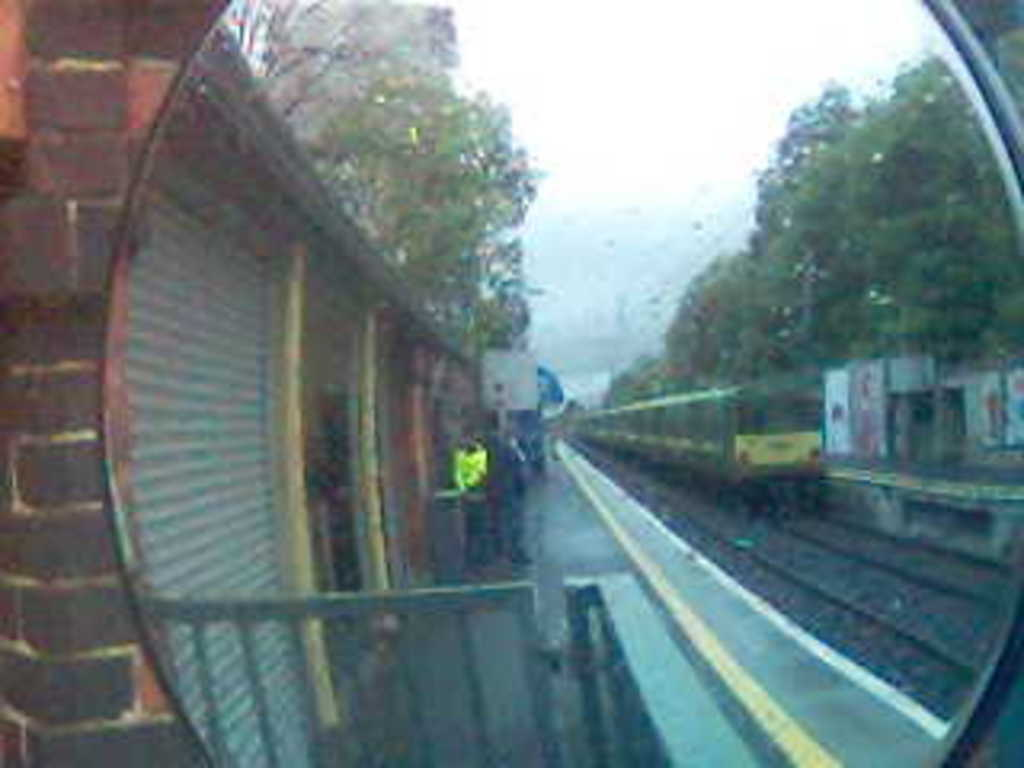Tree: (600, 2, 1024, 405), (227, 0, 536, 359)
